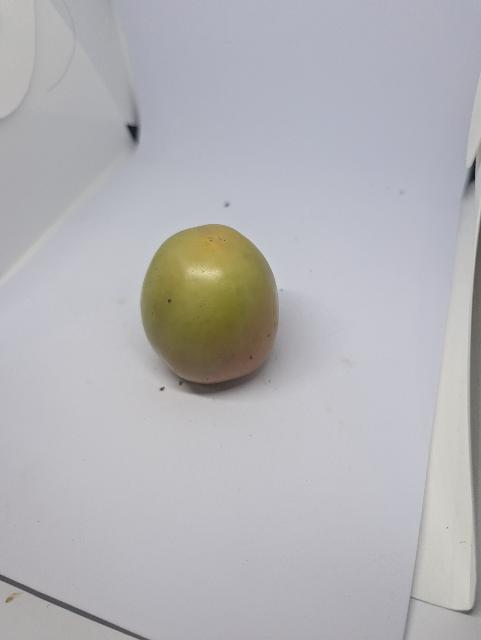breaker: (141, 224, 279, 384)
